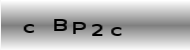2: (91, 22, 103, 37)
B: (52, 18, 69, 32)
P: (72, 21, 86, 34)
c: (22, 22, 37, 34), (110, 25, 123, 37)
